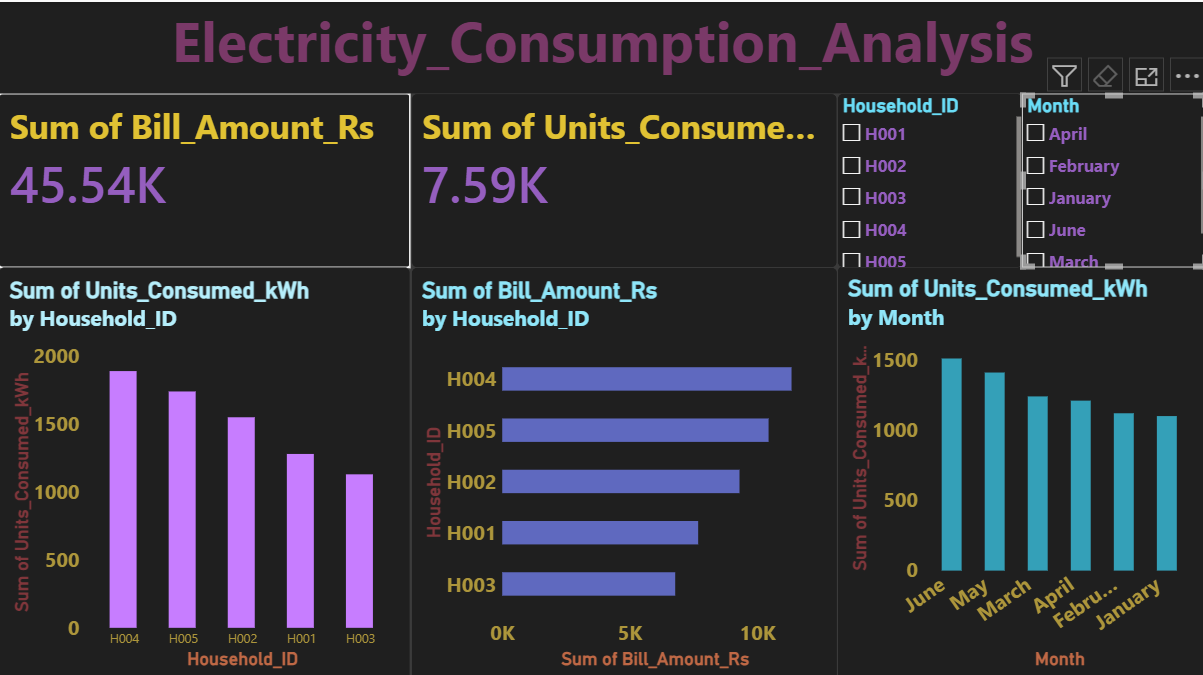

The page's visual inventory and layout, read from the dashboard file:
{"tool":"powerbi","page":{"name":"Page 1","canvas":[1920,1080],"ordinal":0},"visuals":[{"type":"cardVisual","fields":{"Data":["Sum(Sheet1.Bill_Amount_Rs)"]},"box":[0,145.5,654.8,277.8],"z":0},{"type":"cardVisual","fields":{"Data":["Sum(Sheet1.Units_Consumed_kWh)"]},"box":[656.1,145.5,677.5,277.8],"z":1000},{"type":"clusteredBarChart","fields":{"Category":["Sheet1.Household_ID"],"Y":["Sum(Sheet1.Bill_Amount_Rs)"]},"box":[656.1,422.3,677.6,656.1],"z":2000},{"type":"columnChart","fields":{"Category":["Sheet1.Month"],"Y":["Sum(Sheet1.Units_Consumed_kWh)"]},"box":[1333.7,419.9,586.9,658.5],"z":3000},{"type":"columnChart","fields":{"Category":["Sheet1.Household_ID"],"Y":["Sum(Sheet1.Units_Consumed_kWh)"]},"box":[0,422.3,653.7,656.1],"z":4000},{"type":"slicer","fields":{"Values":["Sheet1.Household_ID"]},"box":[1333.7,145.5,293.5,276.8],"z":5000},{"type":"slicer","fields":{"Values":["Sheet1.Month"]},"box":[1627.2,145.5,293.5,276.8],"z":6000},{"type":"textbox","box":[0,0,1920.7,145.5],"z":7000}]}

Visuals, with their boxes on the page's 1920x1080 design canvas (x1, y1, x2, y2). These are canvas units, not pixel positions in the 1203x675 screenshot, which may show the page scaled, cropped or inside an application window:
cardVisual - Sum(Sheet1.Bill_Amount_Rs): [left=0, top=146, right=655, bottom=423]
cardVisual - Sum(Sheet1.Units_Consumed_kWh): [left=656, top=146, right=1334, bottom=423]
clusteredBarChart - Sheet1.Household_ID x Sum(Sheet1.Bill_Amount_Rs): [left=656, top=422, right=1334, bottom=1078]
columnChart - Sheet1.Month x Sum(Sheet1.Units_Consumed_kWh): [left=1334, top=420, right=1921, bottom=1078]
columnChart - Sheet1.Household_ID x Sum(Sheet1.Units_Consumed_kWh): [left=0, top=422, right=654, bottom=1078]
slicer - Sheet1.Household_ID: [left=1334, top=146, right=1627, bottom=422]
slicer - Sheet1.Month: [left=1627, top=146, right=1921, bottom=422]
textbox: [left=0, top=0, right=1921, bottom=146]
